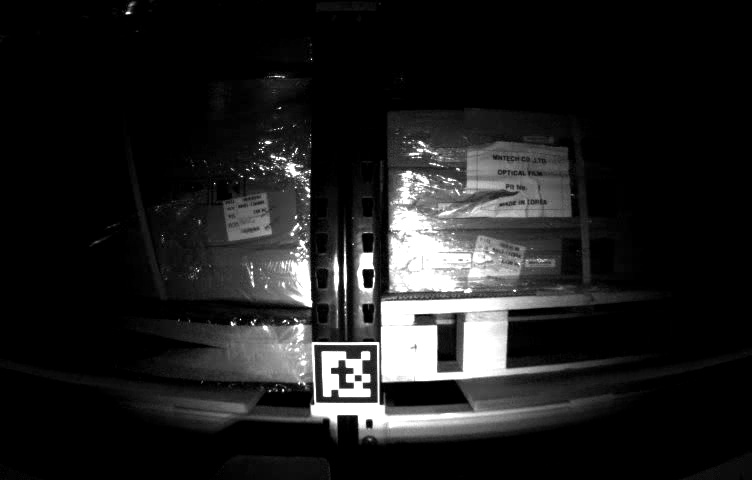True Barcode: (472, 234, 520, 293), (220, 192, 273, 238)
